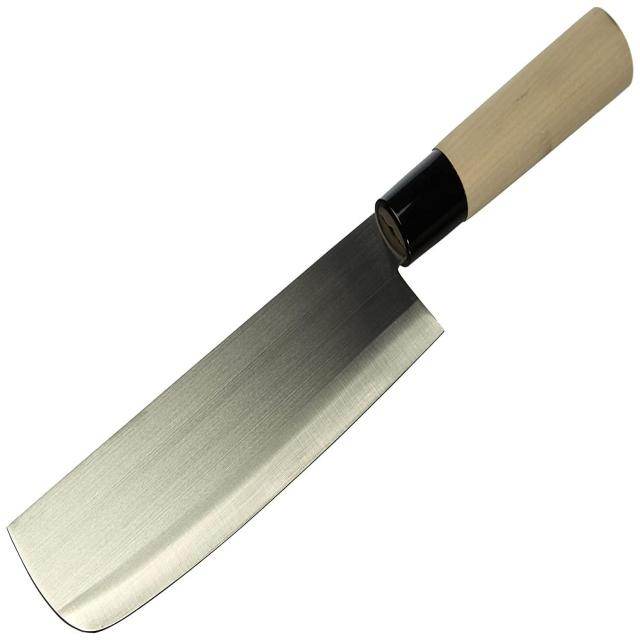weapon: (7, 7, 638, 630)
